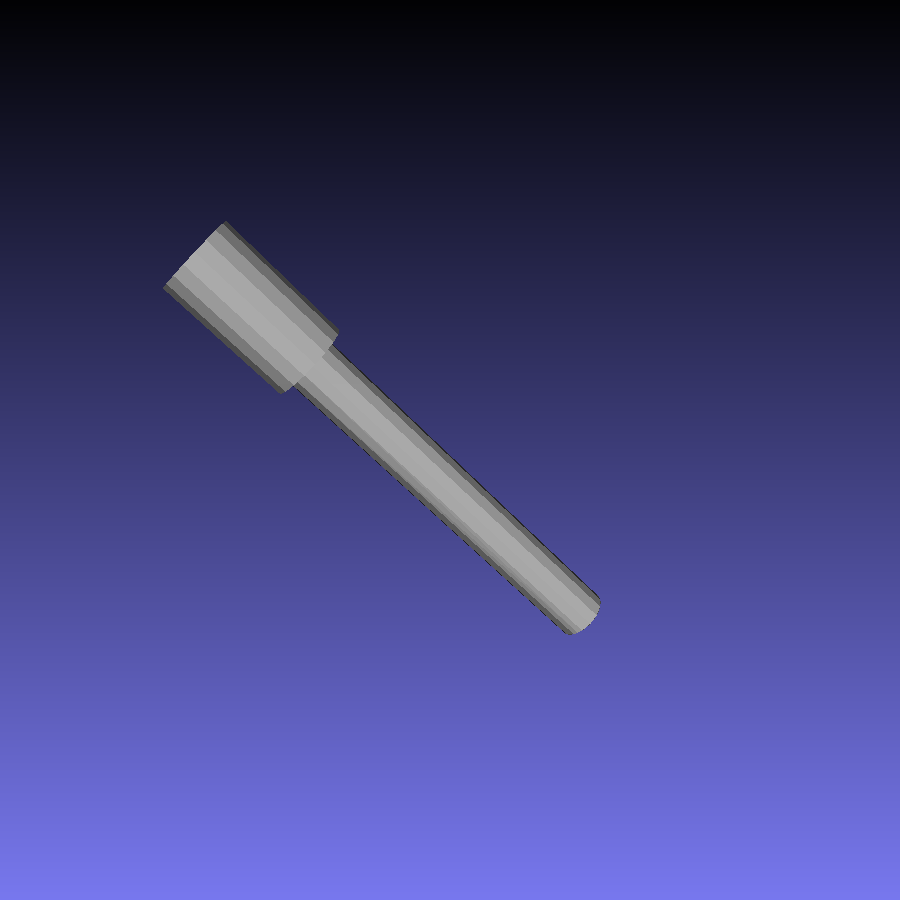cargo_g: (164, 222, 604, 636)
